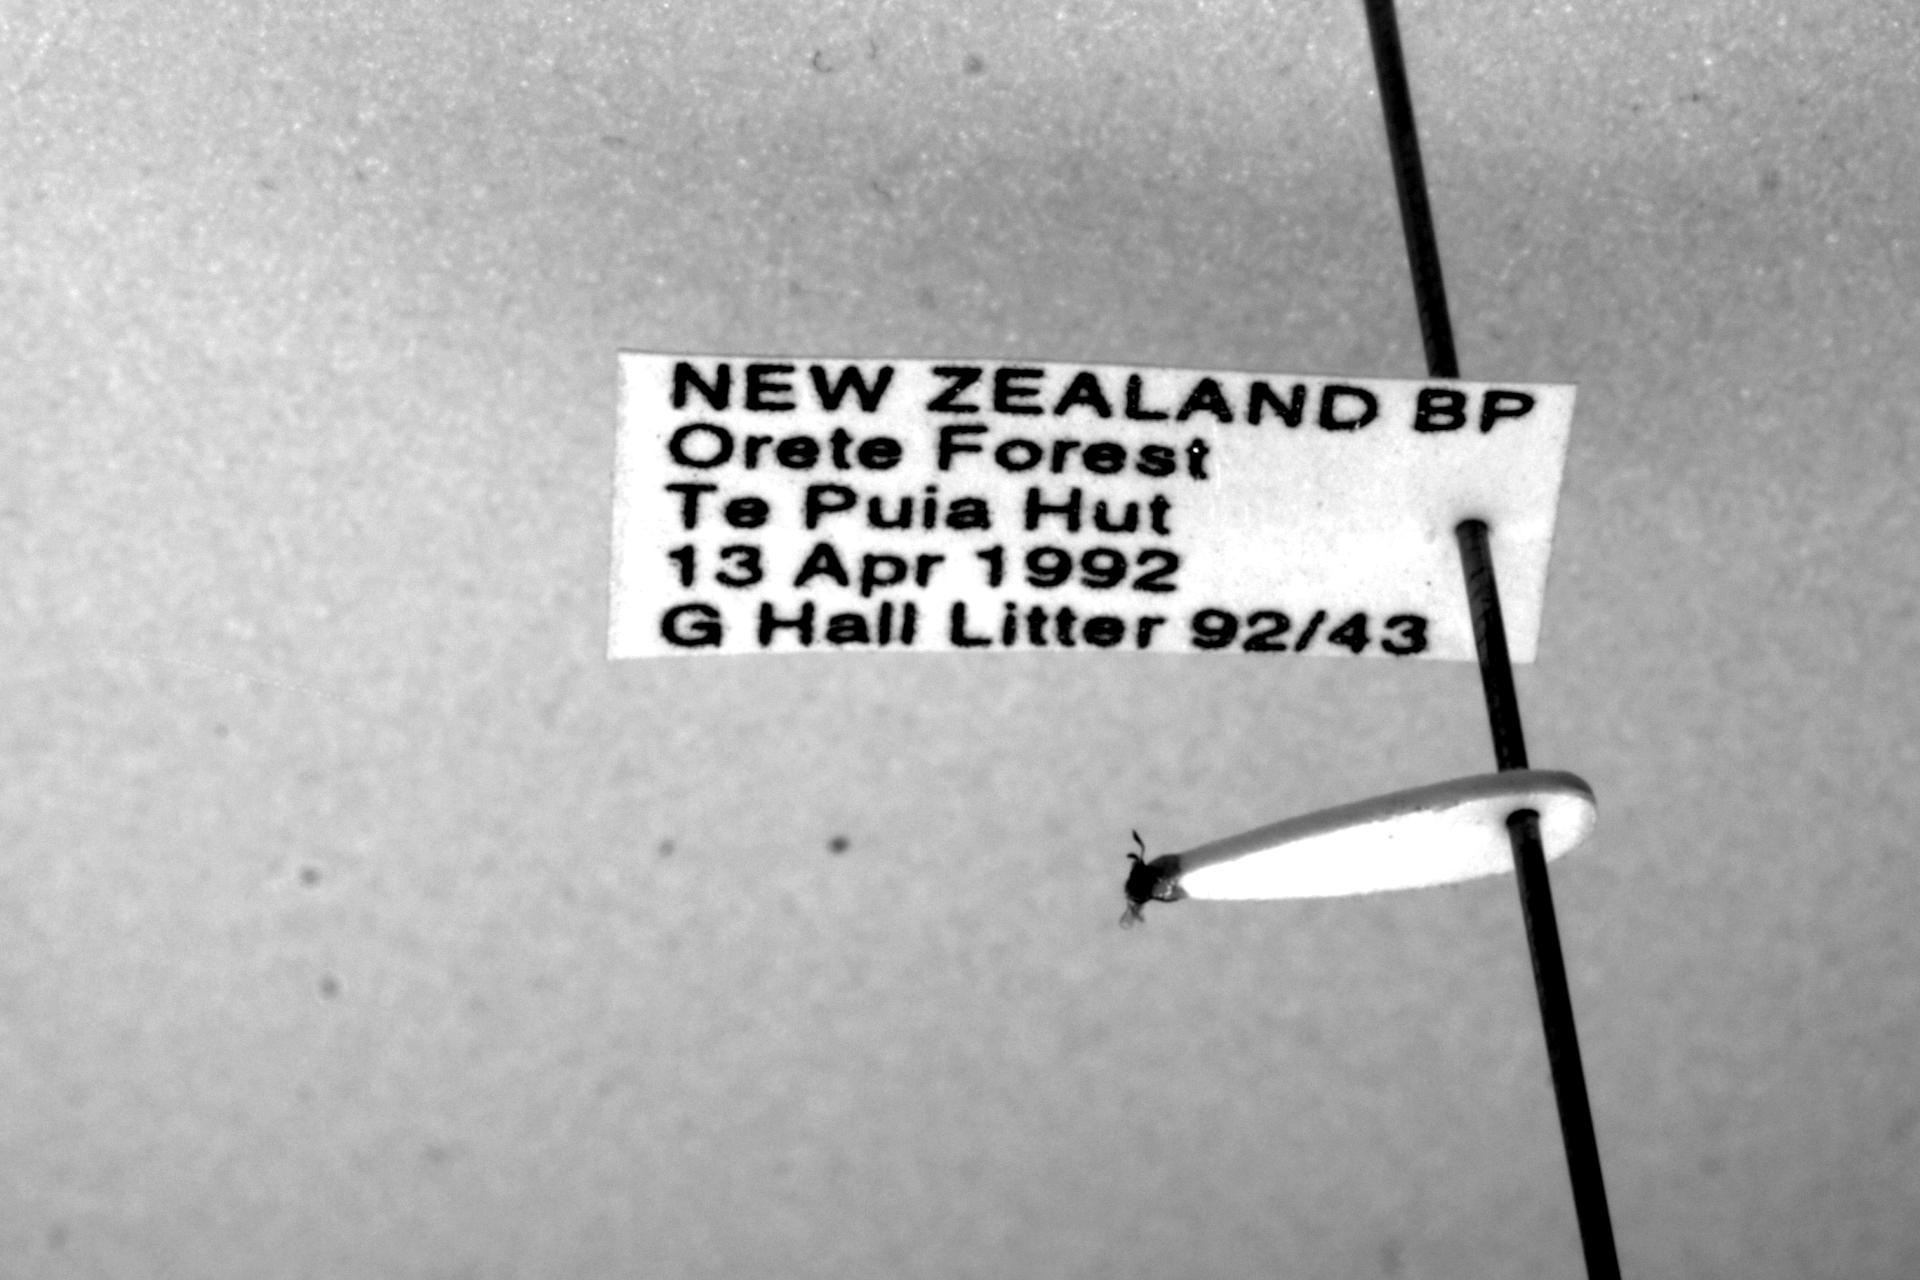typed_label: (607, 353, 1574, 664)
